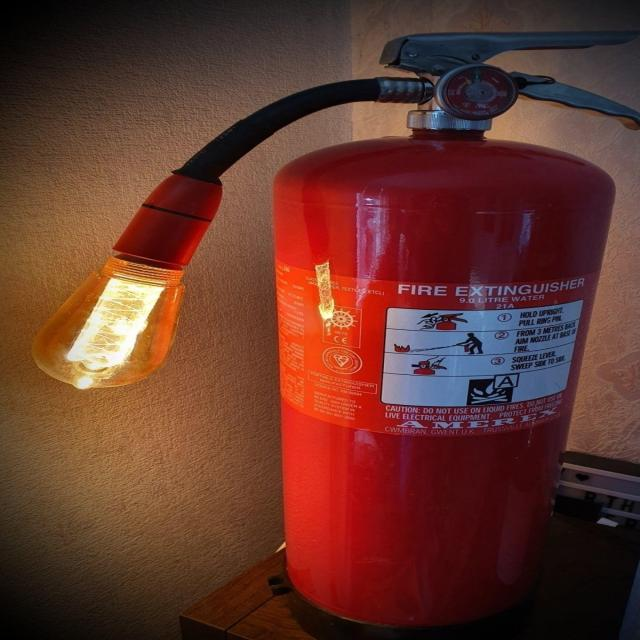fire_extinguisher: (30, 31, 638, 635)
